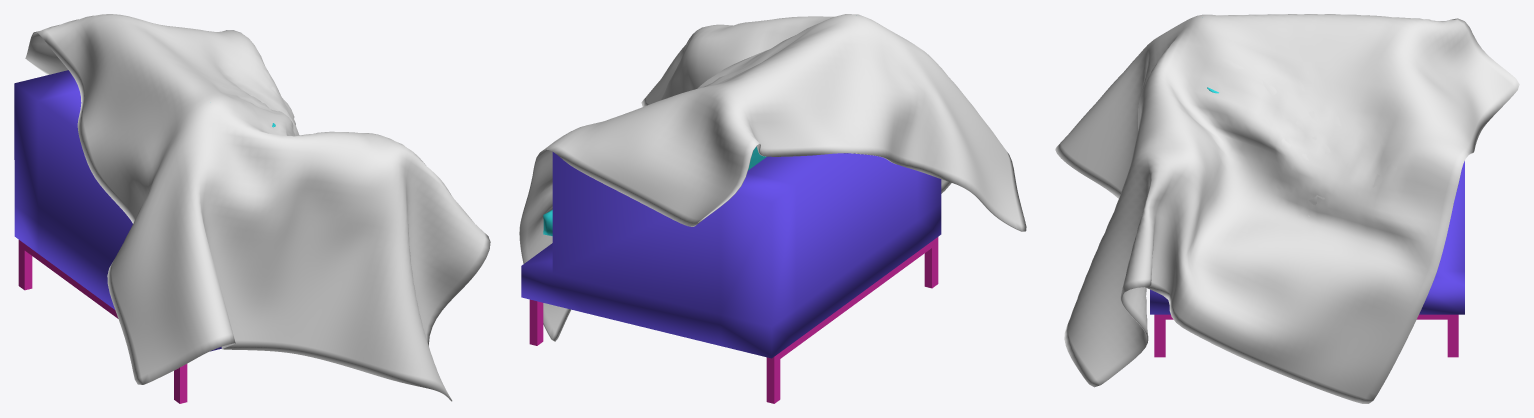
The model's file is couch2.fbx.
3 renders of one model, left to right at view 1: azimuth 30°, elevation 25°; view 2: azimuth 150°, elevation 25°; view 3: azimuth 270°, elevation 25°, orthographic. The views are drawn at different scales.
Visible parts, largest first — view 1: Plane.001, Cube.014; view 2: Plane.001, Cube.014; view 3: Plane.001, Cube.014.
Part boxes in pixels (x1,y1,x2,y2): Plane.001: (25,14,490,401); Cube.014: (14,70,275,403); Plane.001: (519,14,1026,341); Cube.014: (521,146,941,403); Plane.001: (1055,14,1519,403); Cube.014: (1150,87,1464,357).
Size of the model in its own units: 529 by 433 by 620.
